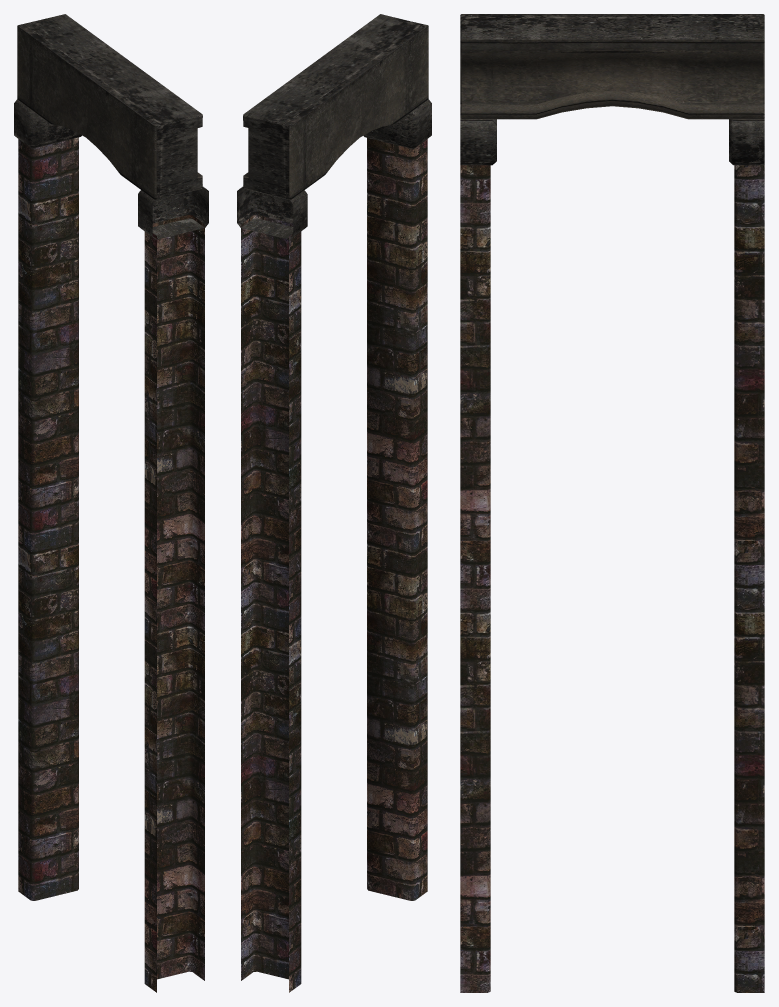
File: pillar_high_double.DAE
3 renders of one model, left to right at view 1: azimuth 30°, elevation 25°; view 2: azimuth 150°, elevation 25°; view 3: azimuth 270°, elevation 25°, orthographic. The views are drawn at different scales.
Visible parts, largest first — view 1: high_pillars_post_double, high_pillar_arch, high_pillar_cap_double; view 2: high_pillars_post_double, high_pillar_arch, high_pillar_cap_double; view 3: high_pillars_post_double, high_pillar_arch, high_pillar_cap_double.
Boxes of the visible parts, x1,y1,x2,y2 form: high_pillars_post_double: (18, 137, 204, 992); high_pillar_arch: (17, 14, 202, 199); high_pillar_cap_double: (14, 99, 208, 239); high_pillars_post_double: (241, 138, 427, 992); high_pillar_arch: (243, 14, 428, 199); high_pillar_cap_double: (237, 99, 431, 239); high_pillars_post_double: (460, 165, 764, 992); high_pillar_arch: (460, 14, 764, 119); high_pillar_cap_double: (460, 118, 764, 165).
Size of the model in its own units: 0.4683 by 2 by 6.9.
